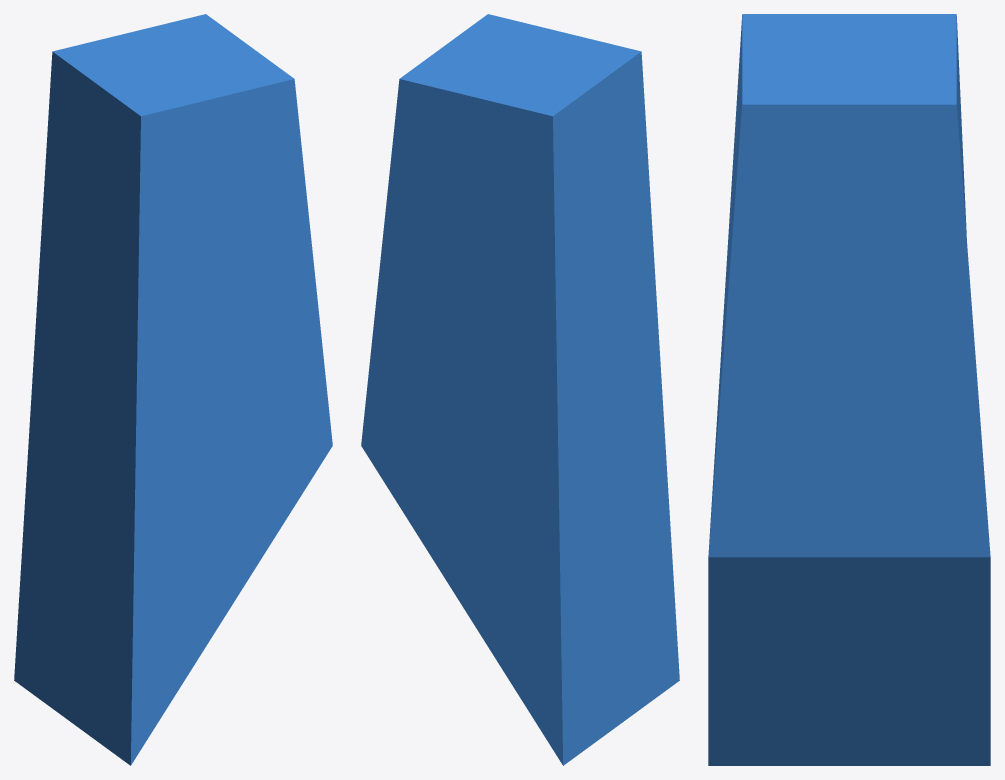
Rendered from Collision_Prop_Chimney2.fbx.
3 renders of one model, left to right at view 1: azimuth 30°, elevation 25°; view 2: azimuth 150°, elevation 25°; view 3: azimuth 270°, elevation 25°, orthographic. The views are drawn at different scales.
Visible parts, largest first — view 1: UCX_Prop_Chimney2_1; view 2: UCX_Prop_Chimney2_1; view 3: UCX_Prop_Chimney2_1.
Part boxes in pixels (bbox=[...]): UCX_Prop_Chimney2_1: bbox=[14, 14, 332, 765]; UCX_Prop_Chimney2_1: bbox=[361, 14, 679, 765]; UCX_Prop_Chimney2_1: bbox=[708, 14, 990, 765].
Bounding box in the file's own units: 100 × 300 × 100.
